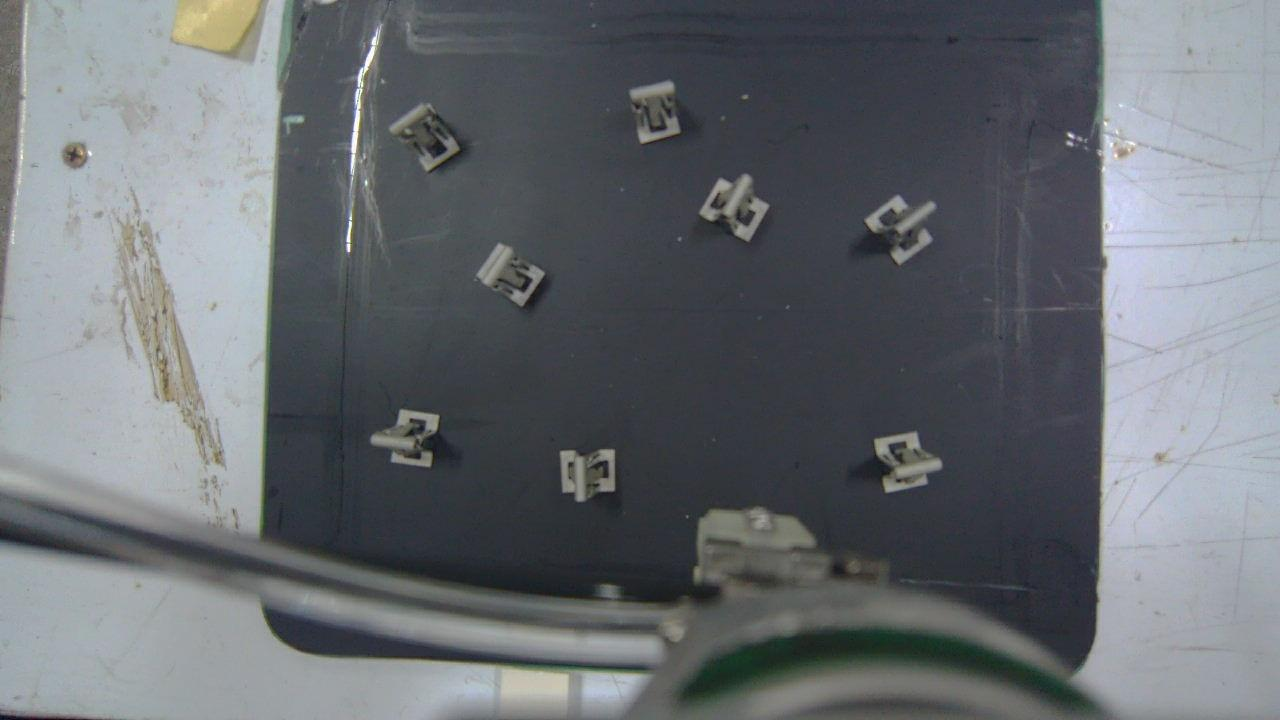ng: (389, 101, 460, 172), (476, 244, 545, 309), (632, 79, 683, 142)
pass: (700, 173, 773, 243), (864, 196, 938, 265), (874, 429, 943, 490), (370, 409, 439, 470), (559, 451, 615, 503)
